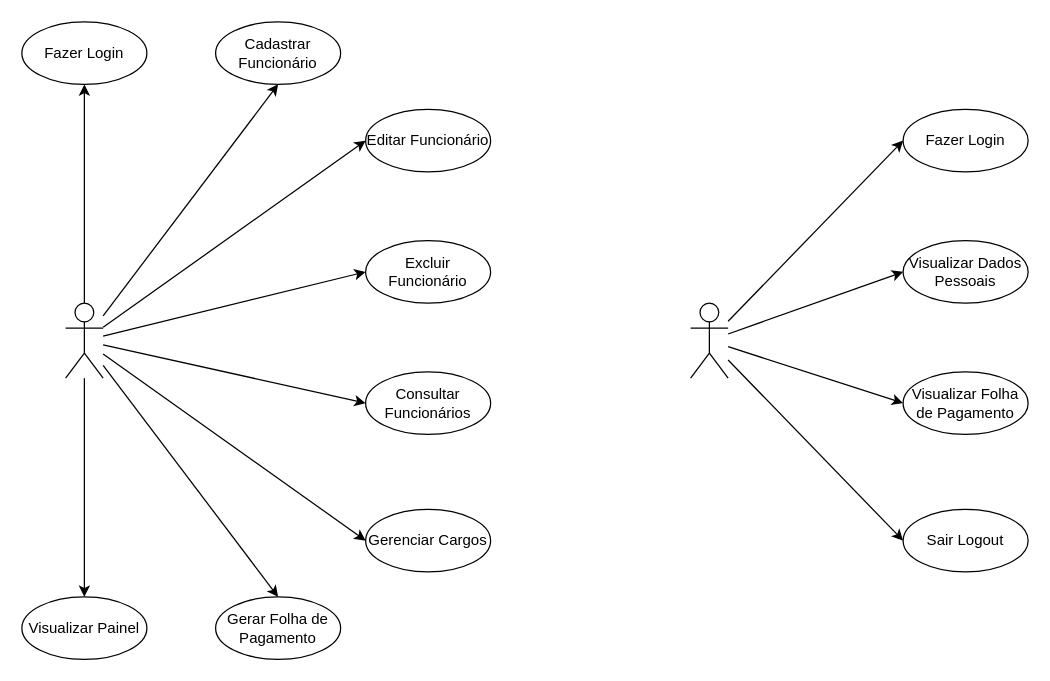
Image size: 1050x681. Some labels were removed from this diagram. Each missing label, with the centre of its shape:
Administrador: the point at 83,340
Funcionário: the point at 708,340
